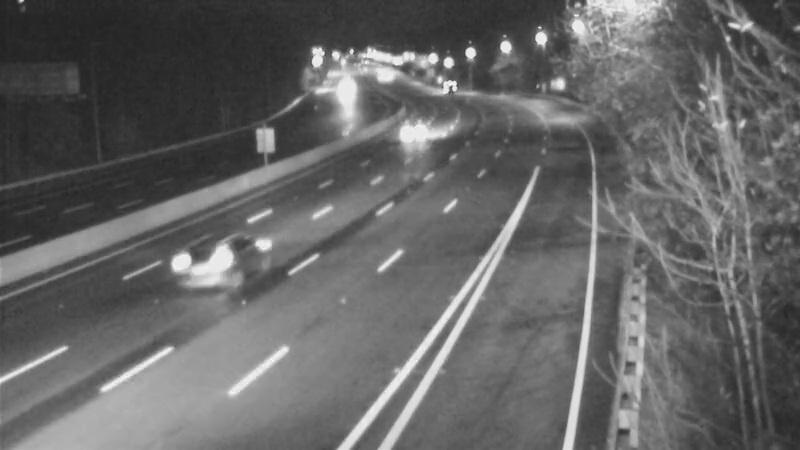vehicle: (162, 230, 242, 310), (417, 60, 467, 110), (386, 107, 436, 157), (318, 71, 368, 121)
